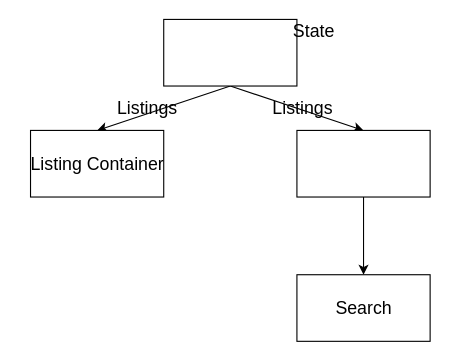
The diagram is 450 pixels wide and 361 high, and some of its shapes have lost their labels. Here are the shapes that lost their labels. From the top down, the box of each, then its label:
(163, 18, 297, 86): App
(296, 129, 430, 197): Header
